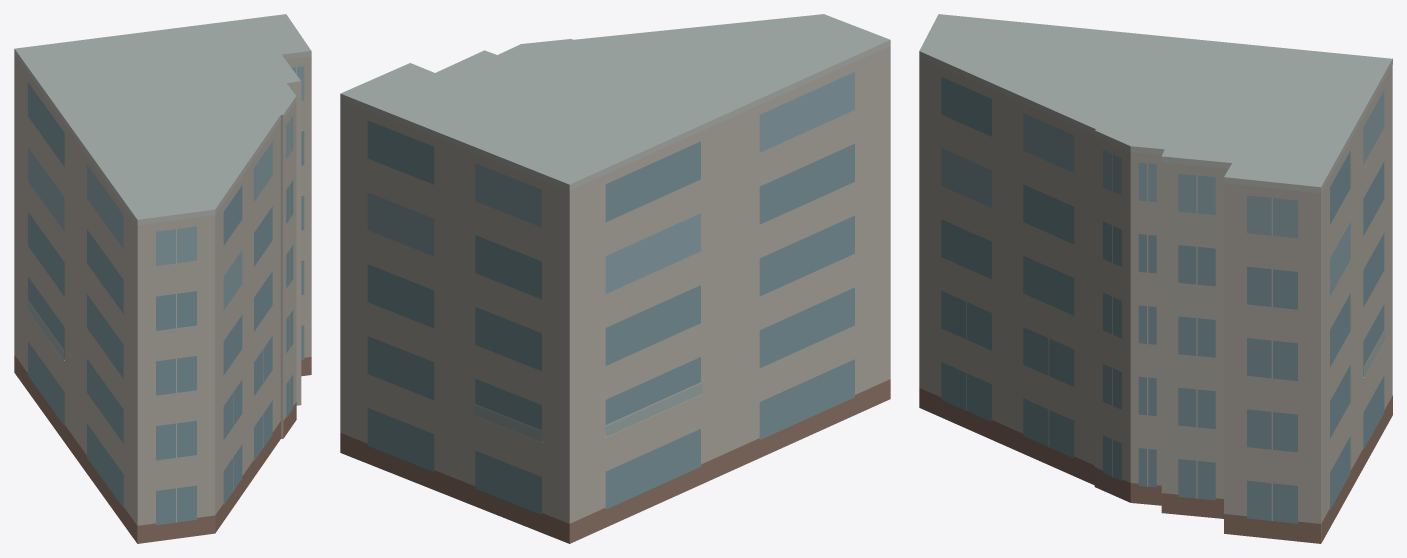
The model's file is survey-upis-32532468.glb.
3 views of the same model, side by side, from view 1: azimuth 30°, elevation 25°; view 2: azimuth 150°, elevation 25°; view 3: azimuth 270°, elevation 25° (orthographic). The views are drawn at different scales.
Parts seen in each view (by area): view 1: survey-upis-32532468.tmp; view 2: survey-upis-32532468.tmp; view 3: survey-upis-32532468.tmp.
Part boxes in pixels (left/top/right/bottom): survey-upis-32532468.tmp: left=14, top=14, right=311, bottom=543; survey-upis-32532468.tmp: left=340, top=14, right=890, bottom=543; survey-upis-32532468.tmp: left=919, top=14, right=1392, bottom=543.
Size of the model in its own units: 15.22 by 14.6 by 17.58.
